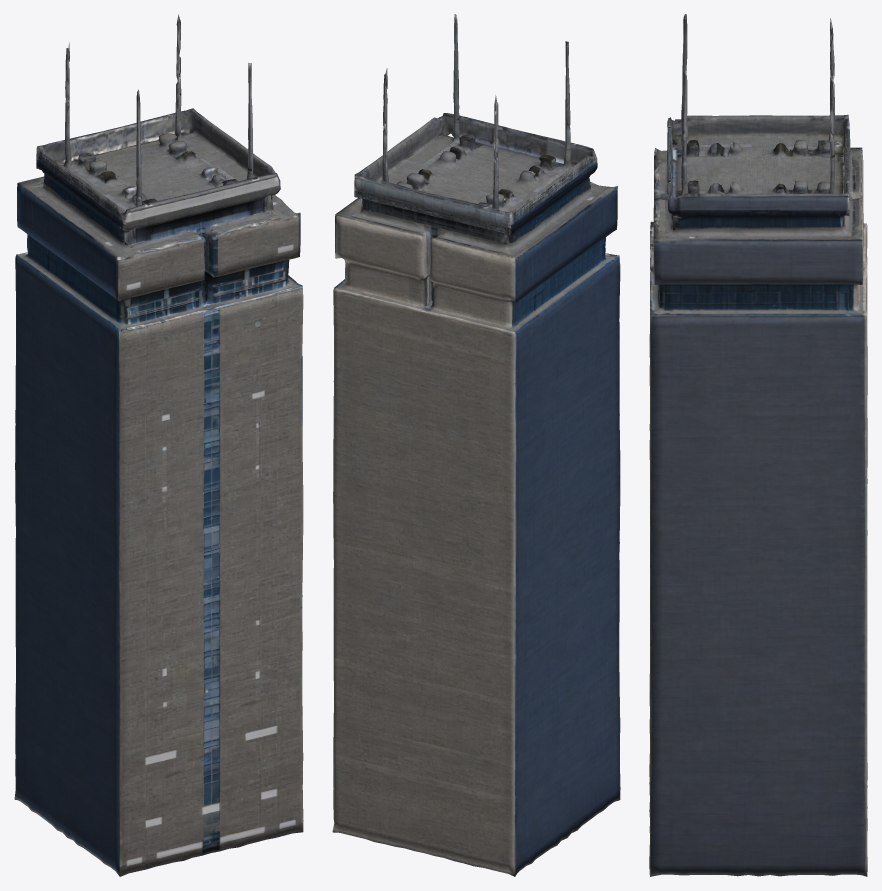
The model's file is building2.glb.
3 renders of one model, left to right at view 1: azimuth 30°, elevation 25°; view 2: azimuth 150°, elevation 25°; view 3: azimuth 270°, elevation 25°, orthographic. The views are drawn at different scales.
Size of the model in its own units: 0.5113 by 2.03 by 0.5096.
1 material, 1 textured.
